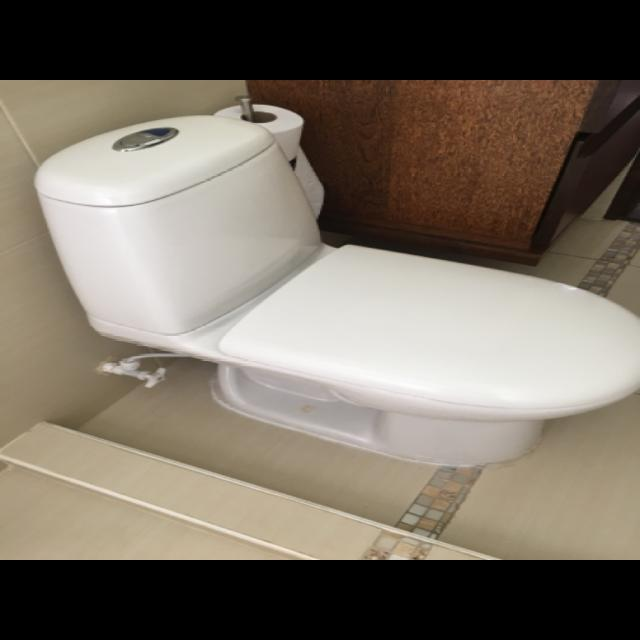toilet: (35, 111, 640, 473)
